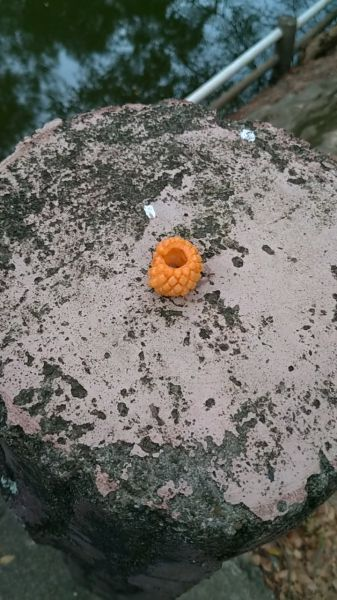eggs: (142, 229, 208, 301)
